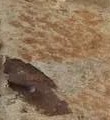Corrosion: (2, 54, 74, 117)
